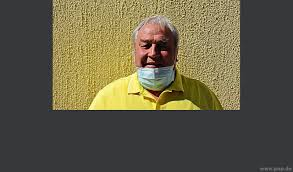mask_weared_incorrect: (138, 37, 175, 76)
